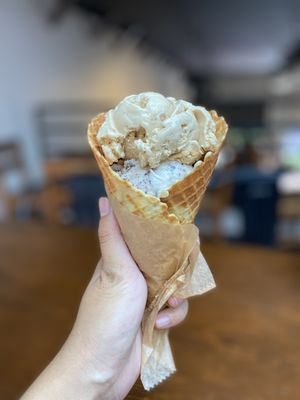soup: (86, 93, 229, 397)
